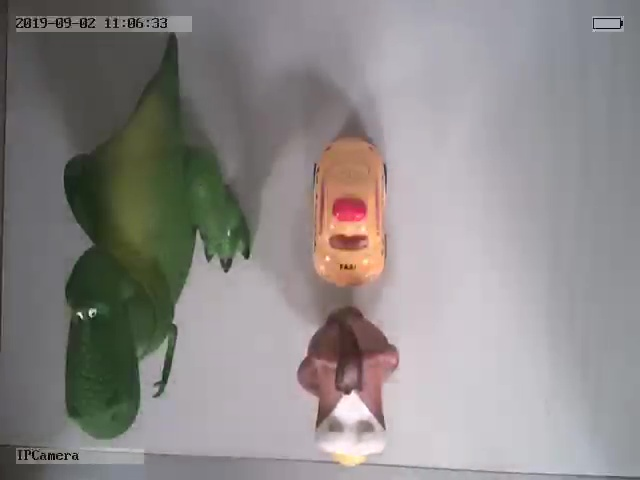car: (311, 134, 390, 287)
horse: (294, 304, 402, 468)
rex: (62, 48, 252, 440)
